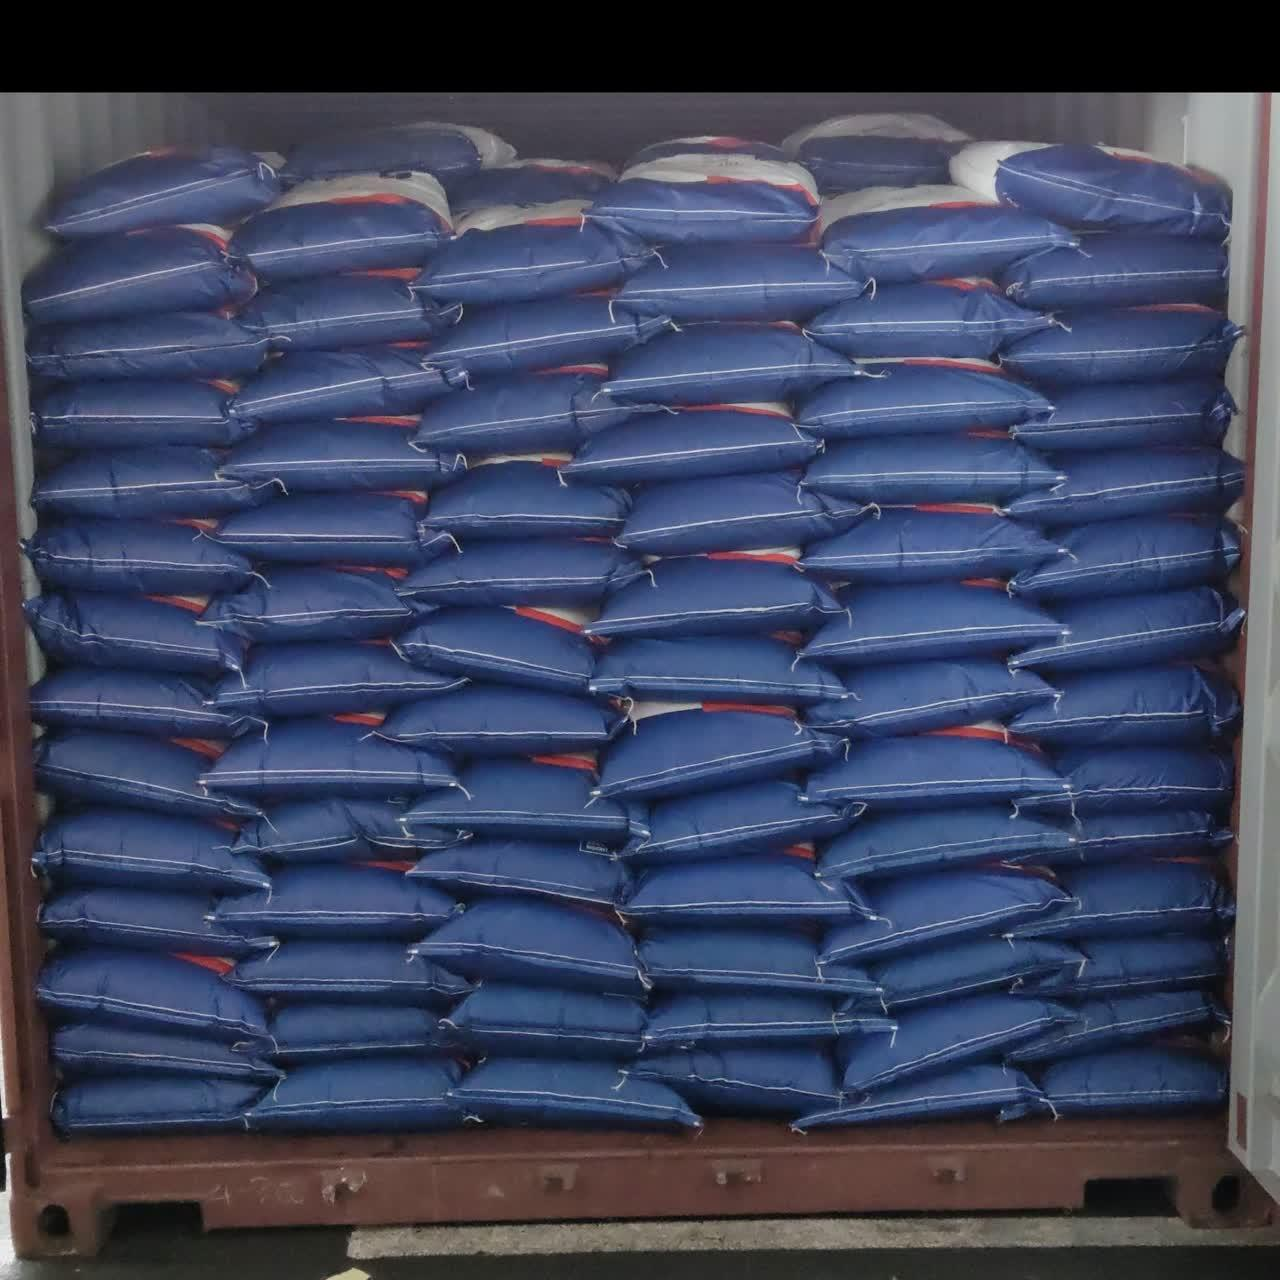sack: (953, 141, 1230, 240), (586, 134, 821, 244), (414, 202, 658, 306), (822, 184, 1073, 284), (822, 870, 1084, 965), (22, 226, 257, 331), (231, 175, 452, 284), (843, 994, 1074, 1098), (200, 712, 455, 803), (418, 900, 649, 1000), (799, 584, 1064, 670), (599, 708, 843, 801), (41, 148, 280, 240), (806, 728, 1065, 812), (622, 839, 872, 926), (561, 404, 821, 486), (799, 505, 1065, 584), (797, 359, 1051, 441), (39, 949, 268, 1040), (1010, 586, 1242, 675), (401, 754, 628, 844), (604, 325, 859, 404), (588, 557, 839, 638), (424, 297, 673, 377), (994, 857, 1235, 940), (1006, 445, 1242, 530), (1005, 667, 1238, 753), (1000, 308, 1238, 392), (1013, 516, 1238, 604), (394, 602, 607, 695), (619, 474, 862, 554), (33, 811, 267, 894), (806, 282, 1054, 361), (617, 245, 866, 322), (1000, 232, 1228, 316), (821, 806, 1076, 881), (843, 938, 1085, 1016), (622, 782, 855, 863), (806, 661, 1053, 737), (28, 313, 270, 390), (415, 373, 639, 455), (804, 433, 1061, 504), (32, 377, 254, 459), (38, 733, 253, 817), (220, 417, 465, 491), (215, 646, 463, 719), (32, 447, 280, 519), (25, 517, 252, 595), (30, 594, 245, 676), (229, 347, 452, 424), (202, 568, 431, 644), (237, 273, 458, 350), (379, 686, 621, 756), (590, 636, 840, 704), (420, 459, 629, 540), (215, 866, 455, 937), (454, 1058, 697, 1128), (795, 1065, 1040, 1132), (640, 930, 884, 996), (397, 542, 644, 607), (1015, 379, 1233, 452), (32, 670, 264, 740), (216, 493, 451, 561), (232, 940, 470, 1007), (1008, 990, 1224, 1063), (783, 114, 976, 195), (248, 1058, 459, 1132), (239, 798, 474, 863), (442, 983, 646, 1057), (282, 123, 519, 186), (406, 840, 629, 907), (41, 888, 259, 956), (1003, 810, 1234, 872), (1019, 750, 1232, 817), (1008, 934, 1225, 1000), (644, 995, 885, 1053), (1036, 1046, 1227, 1116), (54, 1024, 278, 1082), (638, 1050, 837, 1115), (240, 1005, 450, 1065), (54, 1078, 260, 1133), (447, 161, 614, 212)
